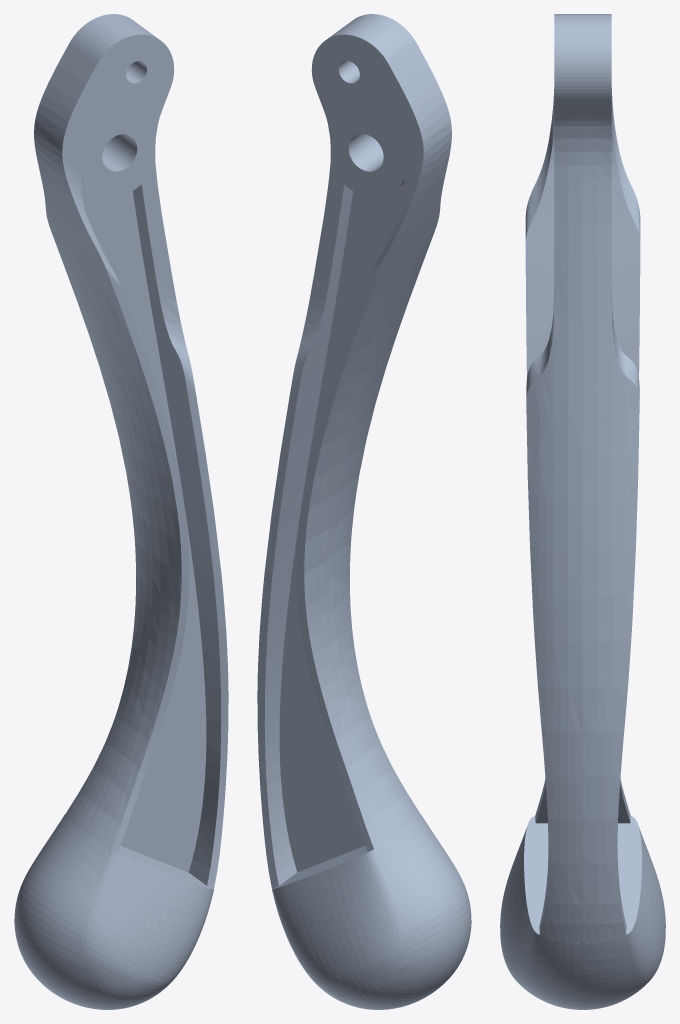
The model's file is calf.dae.
The picture shows the model from 3 angles, left to right: view 1: azimuth 30°, elevation 25°; view 2: azimuth 150°, elevation 25°; view 3: azimuth 270°, elevation 25°; orthographic projection.
Visible parts, largest first — view 1: calf_bar; view 2: calf_bar; view 3: calf_bar.
Part boxes in pixels (x1,y1,x2,y2): calf_bar: [14, 14, 228, 1009]; calf_bar: [257, 14, 471, 1009]; calf_bar: [500, 14, 665, 1009].
Bounding box in the file's own units: 0.0543 × 0.0405 × 0.2665.
